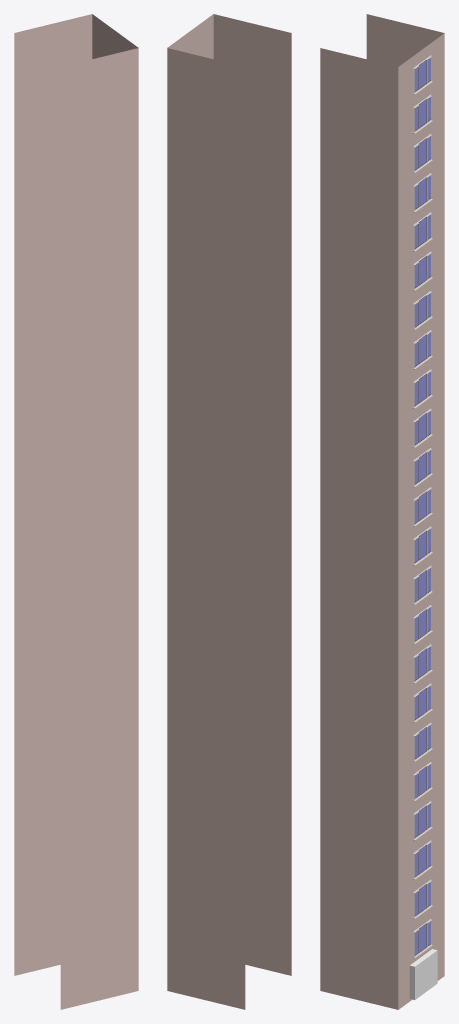
Rendered from basic building.fbx.
3 renders of one model, left to right at view 1: azimuth 30°, elevation 25°; view 2: azimuth 150°, elevation 25°; view 3: azimuth 330°, elevation 25°, orthographic.
Parts seen in each view (by area): view 1: Room; view 2: Room; view 3: Room, Window, CTRL_Hole.
Boxes of the visible parts, x1,y1,x2,y2 form: Room: (14,14,138,1009); Room: (167,14,291,1009); Room: (320,14,444,1009); Window: (412,55,432,958); CTRL_Hole: (409,949,437,999).
Size of the model in its own units: 534 by 5760 by 514.
